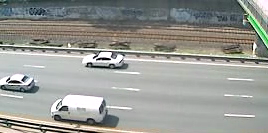car: (48, 93, 112, 127), (79, 50, 128, 72), (1, 72, 36, 93)
